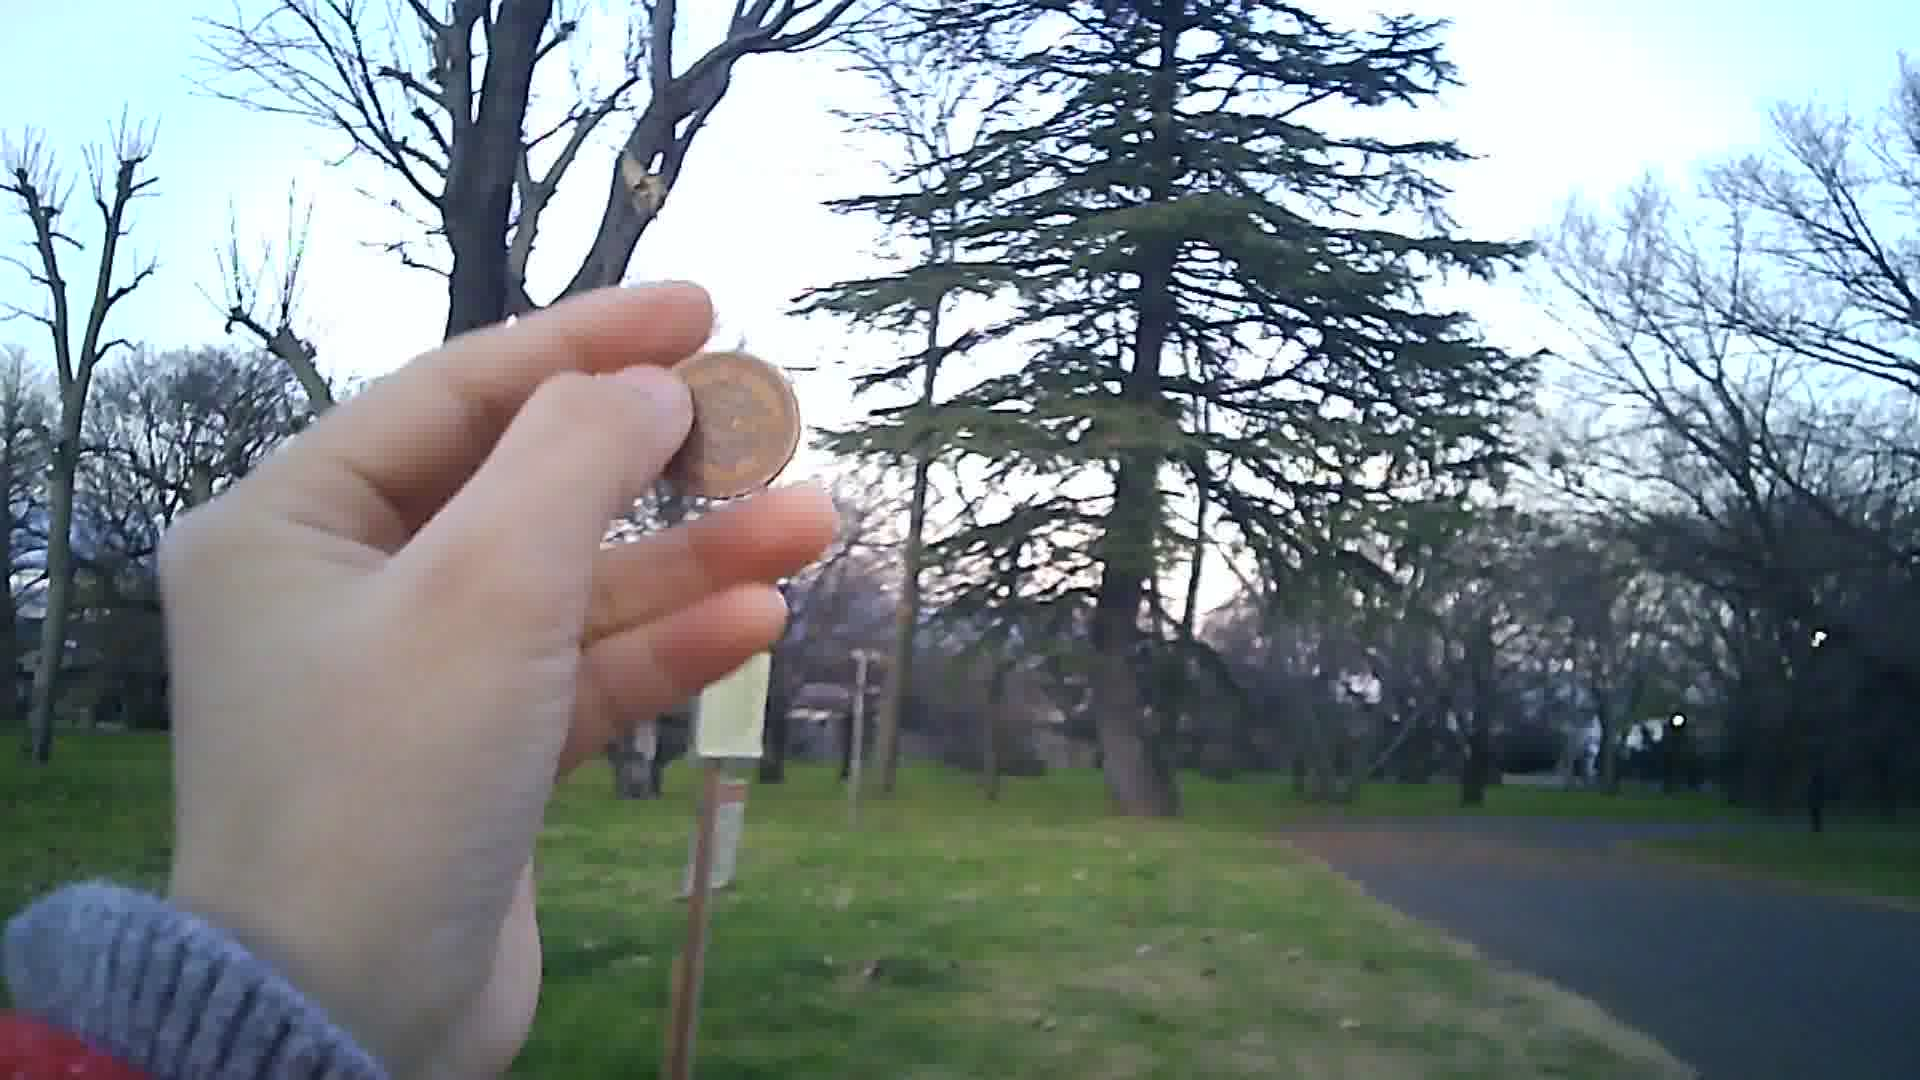10 Yen: (647, 339, 806, 495)
